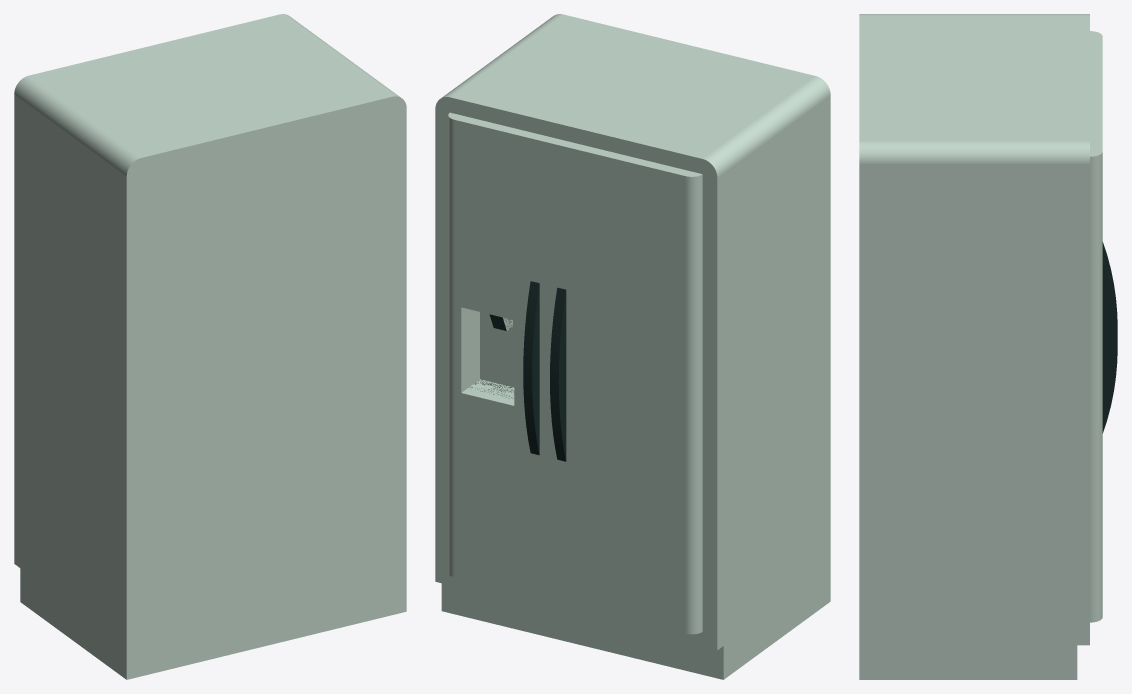
File: Fridge.fbx
The picture shows the model from 3 angles, left to right: view 1: azimuth 30°, elevation 25°; view 2: azimuth 150°, elevation 25°; view 3: azimuth 270°, elevation 25°; orthographic projection. The views are drawn at different scales.
Visible parts, largest first — view 1: kitchenFridgeLarge; view 2: kitchenFridgeLarge, metalLight, doorLeft, metalMedium, doorRight; view 3: kitchenFridgeLarge, doorLeft, metalMedium, metalLight.
Part boxes in pixels (left/top/right/bottom): kitchenFridgeLarge: left=14, top=14, right=406, bottom=679; kitchenFridgeLarge: left=435, top=14, right=830, bottom=679; metalLight: left=548, top=138, right=702, bottom=634; doorLeft: left=448, top=112, right=554, bottom=599; metalMedium: left=470, top=281, right=539, bottom=455; doorRight: left=550, top=287, right=566, bottom=461; kitchenFridgeLarge: left=859, top=14, right=1089, bottom=679; doorLeft: left=1090, top=104, right=1102, bottom=622; metalMedium: left=1102, top=255, right=1117, bottom=433; metalLight: left=1090, top=31, right=1102, bottom=104.
Size of the model in its own units: 0.52 by 0.92 by 0.4055.
